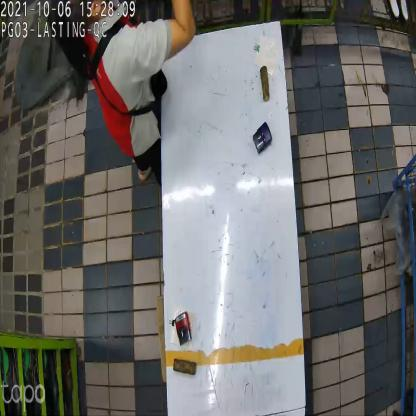stamp: (172, 314, 196, 346), (254, 121, 273, 155)
